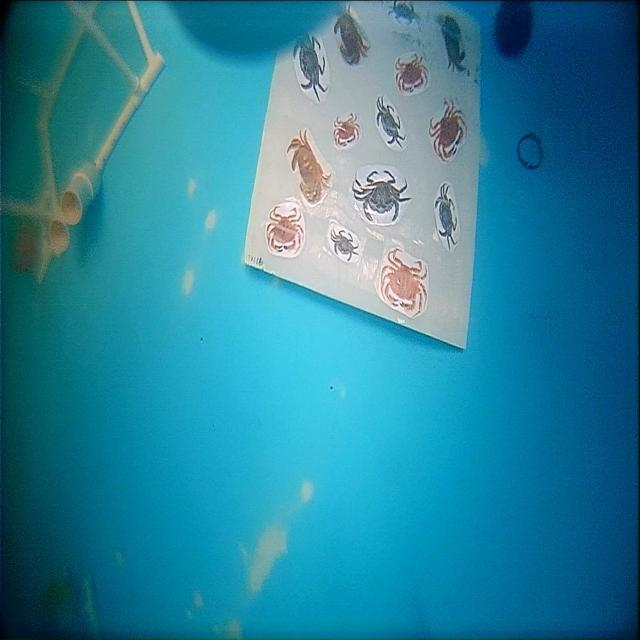GreenCrab: (353, 170, 410, 221), (434, 184, 457, 251), (376, 96, 405, 148), (330, 229, 358, 261)
